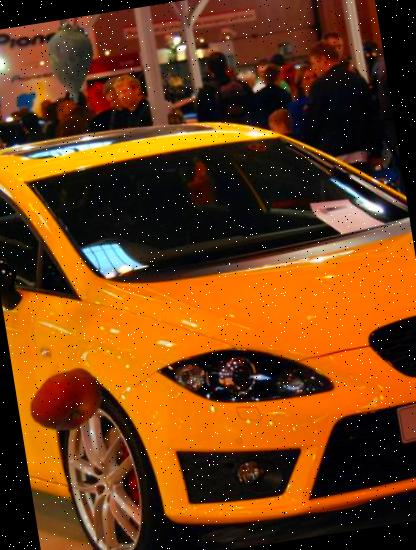Beetroot: (23, 13, 121, 112)
Nectarine: (23, 358, 110, 444)
